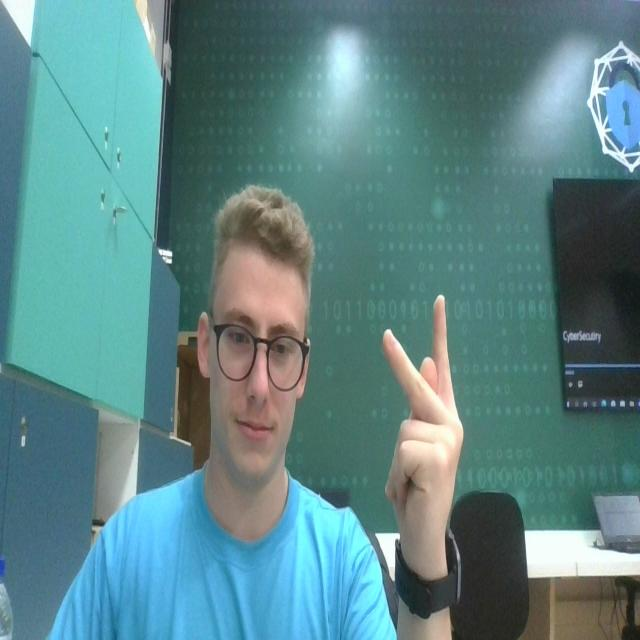K: (372, 278, 468, 544)
